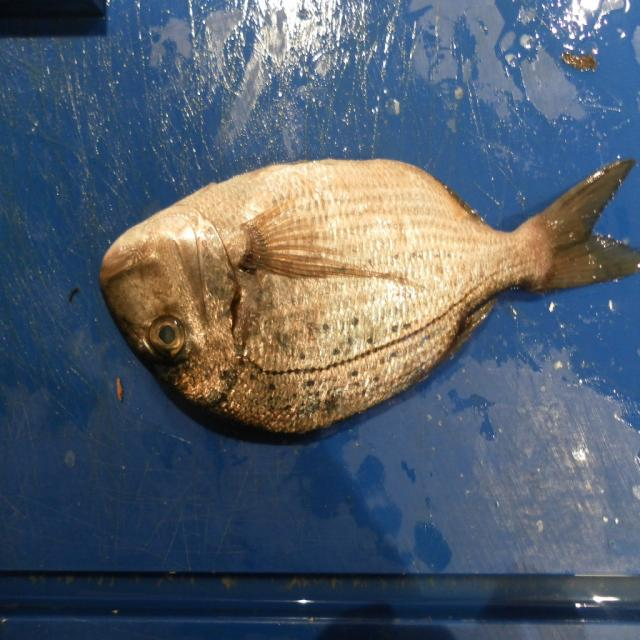Red-Sea-Bream-mercan-: (98, 158, 640, 447)
